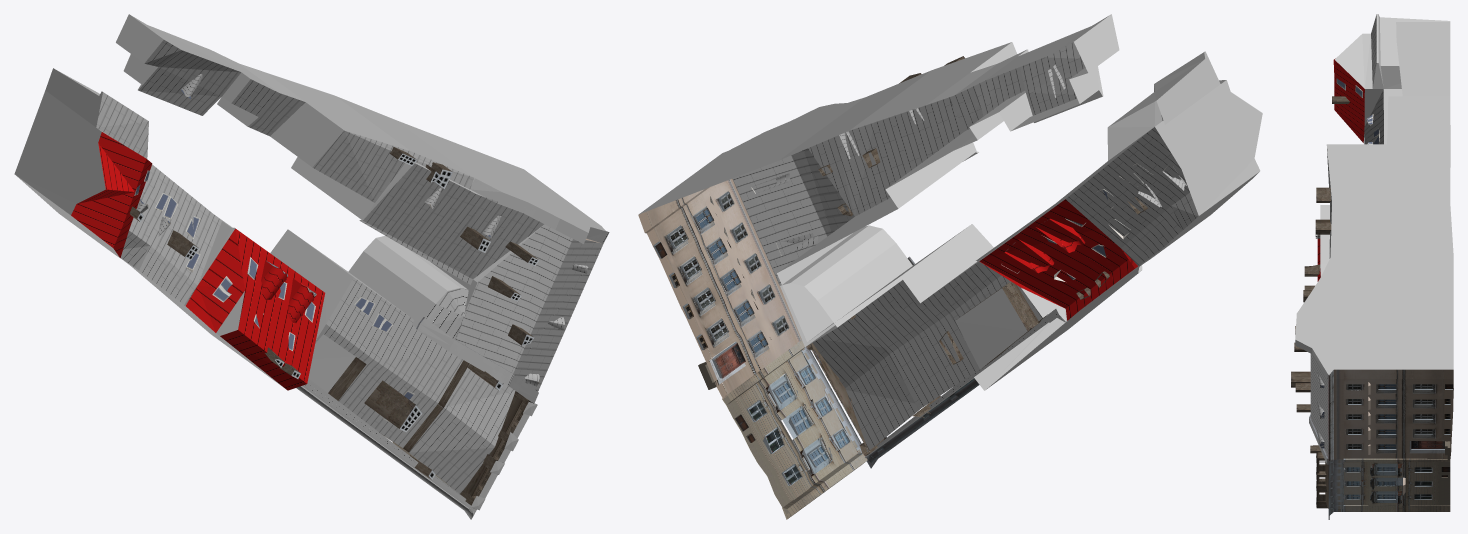
Rendered from Lai-11-origo.obj.
The picture shows the model from 3 angles, left to right: view 1: azimuth 30°, elevation 25°; view 2: azimuth 150°, elevation 25°; view 3: azimuth 270°, elevation 25°; orthographic projection. The views are drawn at different scales.
Visible parts, largest first — view 1: Lai_11; view 2: Lai_11; view 3: Lai_11.
Boxes of the visible parts, x1,y1,x2,y2 form: Lai_11: (14, 14, 609, 519); Lai_11: (638, 14, 1262, 519); Lai_11: (1291, 14, 1453, 519).
Size of the model in its own units: 53.25 by 50.5 by 18.71.
